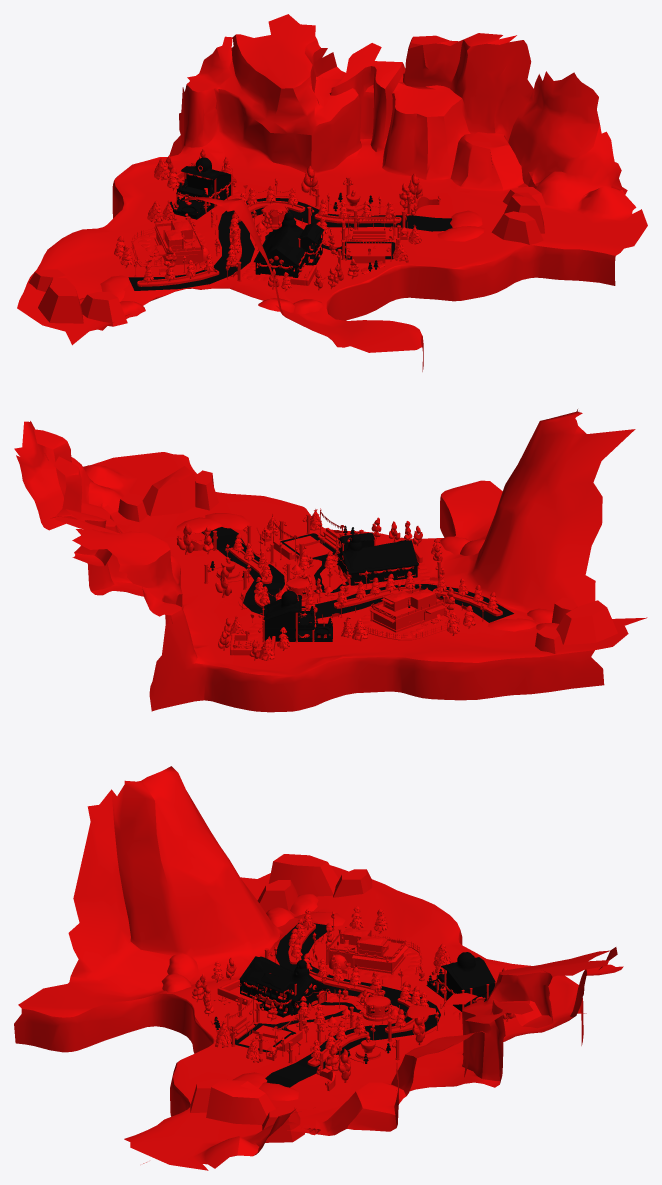
Rendered from Individual_BeverlyChills_Christmas_02.glb.
The picture shows the model from 3 angles, top to bottom: view 1: azimuth 30°, elevation 25°; view 2: azimuth 150°, elevation 25°; view 3: azimuth 270°, elevation 25°; orthographic projection. The views are drawn at different scales.
Parts seen in each view (by area): view 1: pasted__BeverlyChillsRoad_01, pasted__polySurface154, pasted__Building_LuxuryHouse2Story1, pasted__Object_RoadIslands, pasted__Object_IceRock4, pasted__Building_LuxuryHouse3, pasted__Object_IceRock8, pasted__Object_IceRock3, pasted__polySurface367, pasted__Object_IceRock6, pasted__Building_TennisCourt2, pasted__SnowPatch6; view 2: pasted__BeverlyChillsRoad_01, pasted__polySurface154, pasted__Building_LuxuryHouse2Story1, pasted__Building_LuxuryHouse3, pasted__Object_IceRock4, pasted__Object_IceRock6, pasted__Object_RoadIslands, pasted__polySurface367, pasted__Object_IceRock8, pasted__Object_IceRock7, pasted__Object_IceRock5, pasted__Building_TennisCourt2 (+3 smaller); view 3: pasted__BeverlyChillsRoad_01, pasted__polySurface154, pasted__Object_IceRock6, pasted__Object_IceRock4, pasted__Building_LuxuryHouse3, pasted__Building_LuxuryHouse2Story1, pasted__Object_RoadIslands, pasted__polySurface367, pasted__Object_IceRock3, pasted__Object_IceRock7, pasted__Object_IceRock5, pasted__Building_RoundCoffeeShop1 (+1 smaller).
Boxes of the visible parts, x1,y1,x2,y2 form: pasted__BeverlyChillsRoad_01: (17,14,647,371); pasted__polySurface154: (253,212,323,277); pasted__Building_LuxuryHouse2Story1: (172,157,230,219); pasted__Object_RoadIslands: (137,201,401,286); pasted__Object_IceRock4: (38,277,83,323); pasted__Building_LuxuryHouse3: (154,220,201,264); pasted__Object_IceRock8: (491,211,543,244); pasted__Object_IceRock3: (80,291,127,326); pasted__polySurface367: (134,163,440,279); pasted__Object_IceRock6: (504,192,544,233); pasted__Building_TennisCourt2: (346,243,391,256); pasted__SnowPatch6: (437,226,484,241); pasted__BeverlyChillsRoad_01: (14,409,647,712); pasted__polySurface154: (336,533,418,585); pasted__Building_LuxuryHouse2Story1: (263,590,332,641); pasted__Building_LuxuryHouse3: (372,588,443,632); pasted__Object_IceRock4: (556,600,617,644); pasted__Object_IceRock6: (142,466,196,516); pasted__Object_RoadIslands: (229,547,502,616); pasted__polySurface367: (176,519,485,647); pasted__Object_IceRock8: (195,470,218,510); pasted__Object_IceRock7: (118,493,147,522); pasted__Object_IceRock5: (535,626,563,653); pasted__Building_TennisCourt2: (284,536,332,558); pasted__BeverlyChillsRoad_01: (14,766,623,1170); pasted__polySurface154: (239,956,329,1017); pasted__Object_IceRock6: (206,1079,275,1124); pasted__Object_IceRock4: (268,854,338,896); pasted__Building_LuxuryHouse3: (328,927,405,973); pasted__Building_LuxuryHouse2Story1: (426,952,495,1011); pasted__Object_RoadIslands: (288,924,428,1066); pasted__polySurface367: (230,911,485,1087); pasted__Object_IceRock3: (257,880,297,912); pasted__Object_IceRock7: (262,1106,304,1142); pasted__Object_IceRock5: (333,869,372,897); pasted__Building_RoundCoffeeShop1: (359,995,392,1021).
Size of the model in its own units: 119 by 33.84 by 104.
